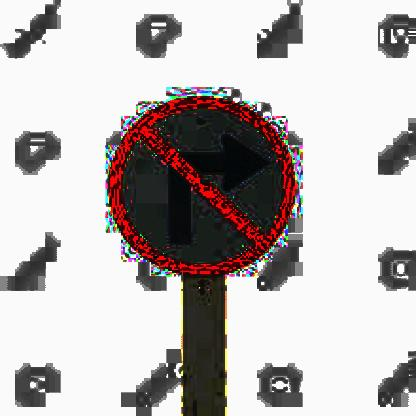No right turn: (108, 86, 296, 283)
